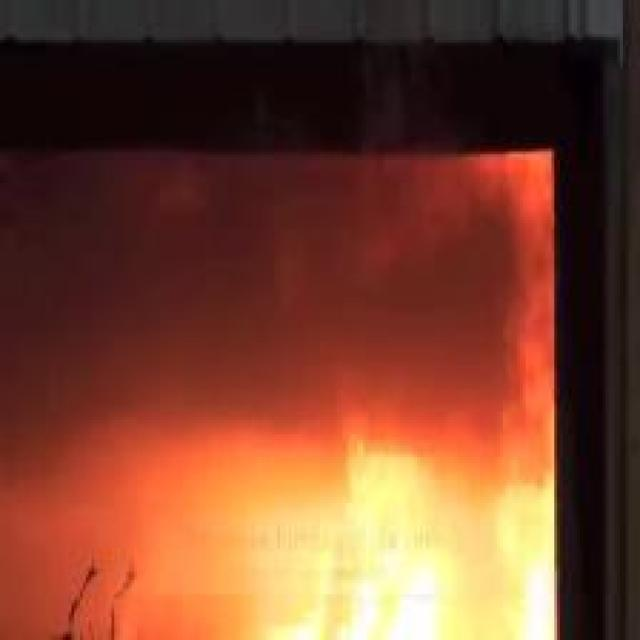fire: (188, 353, 548, 634)
